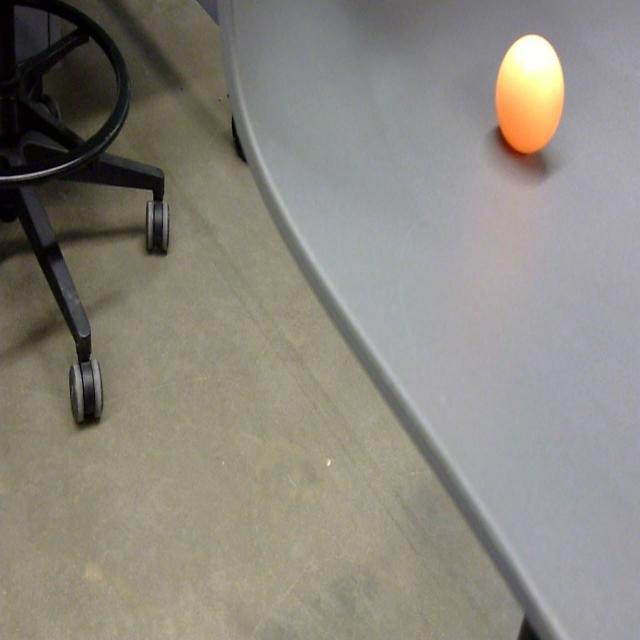ball: (492, 32, 569, 156)
